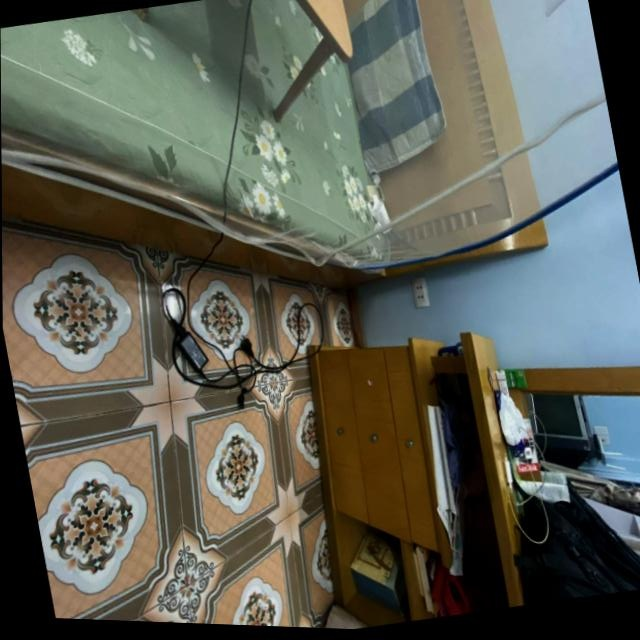outlet: (411, 275, 432, 308)
